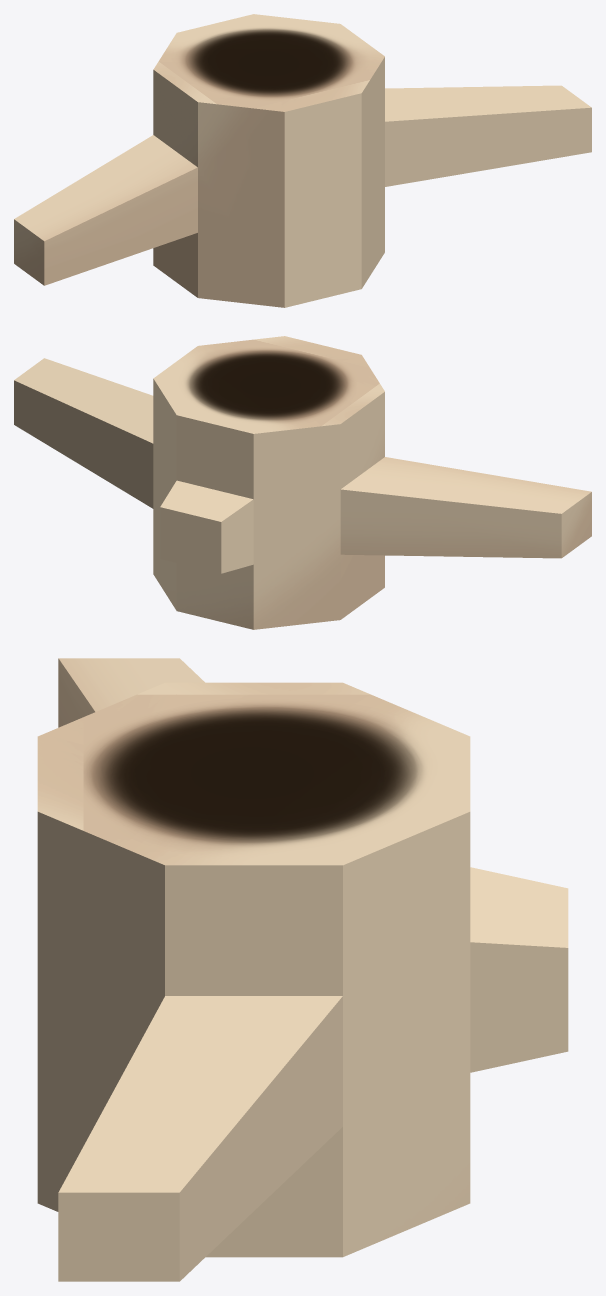
3 views of the same model, one above another, from view 1: azimuth 30°, elevation 25°; view 2: azimuth 150°, elevation 25°; view 3: azimuth 270°, elevation 25° (orthographic). The views are drawn at different scales.
Parts seen in each view (by area): view 1: Vertebrae2; view 2: Vertebrae2; view 3: Vertebrae2.
Part boxes in pixels (box(x1,y1,x2,y2)): Vertebrae2: box(14, 14, 591, 307); Vertebrae2: box(14, 336, 591, 629); Vertebrae2: box(37, 658, 568, 1281).
Bounding box in the file's own units: 177 × 60.39 × 74.07.
